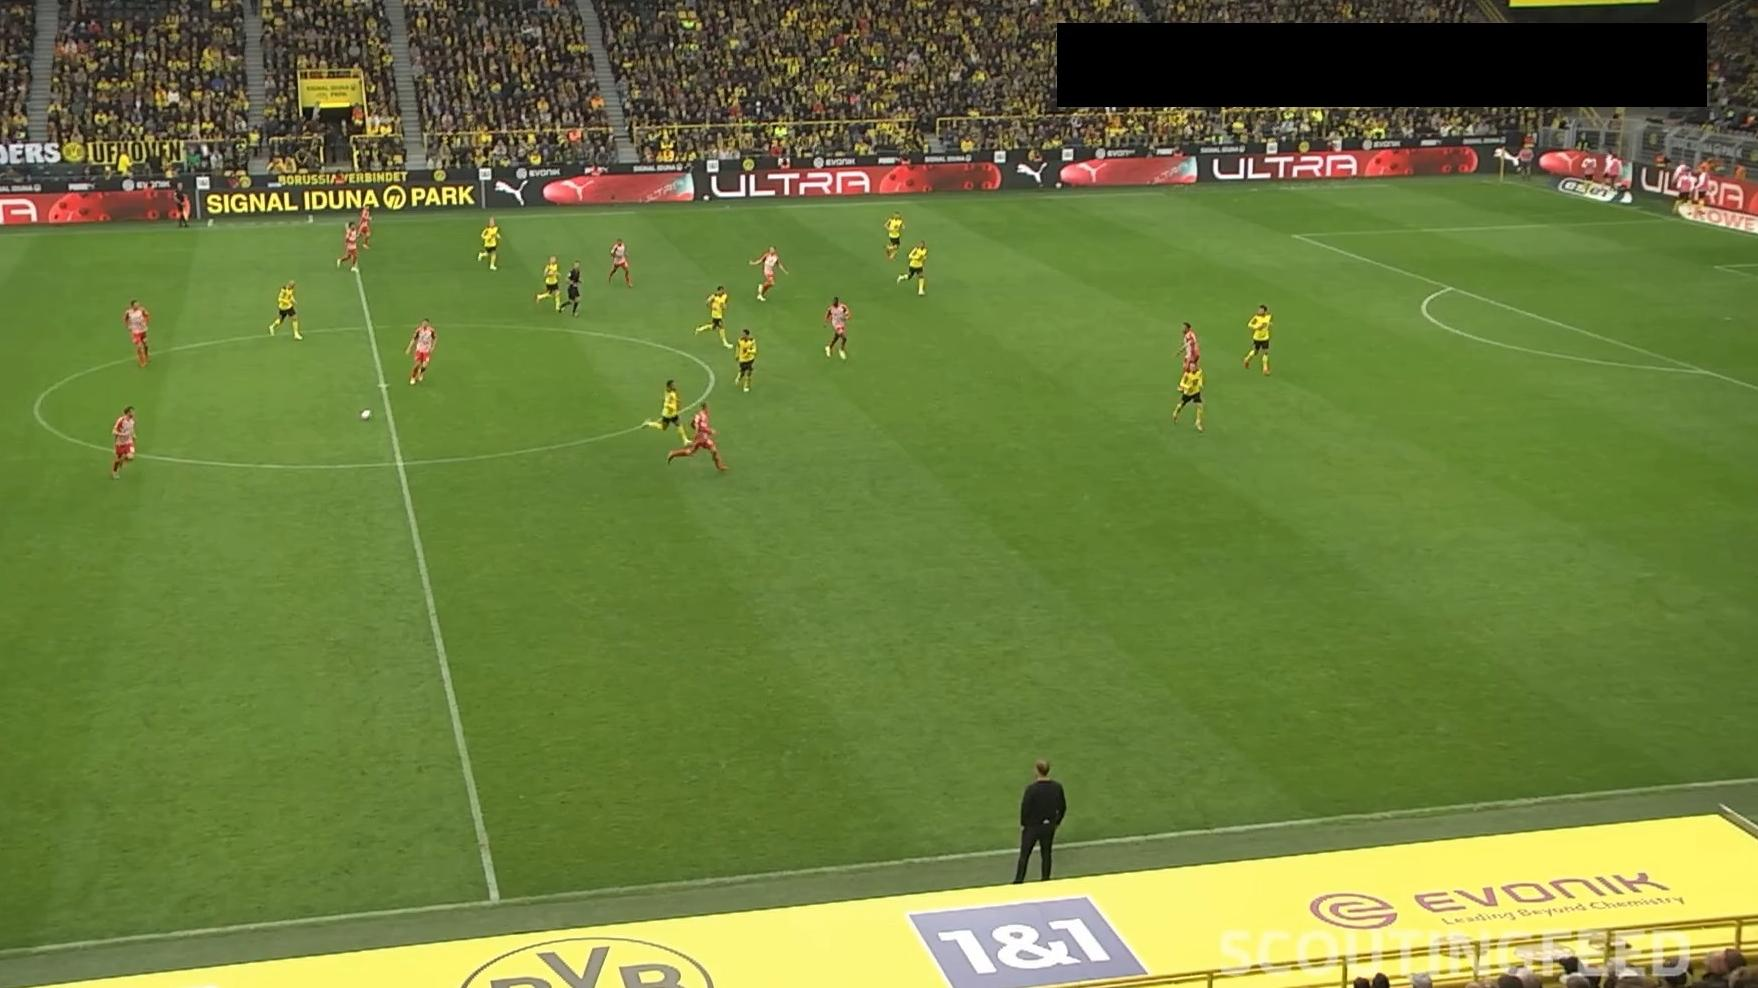ball: (359, 408, 372, 422)
